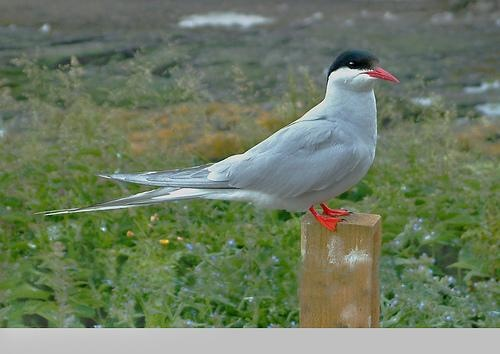bird: (33, 49, 400, 229)
